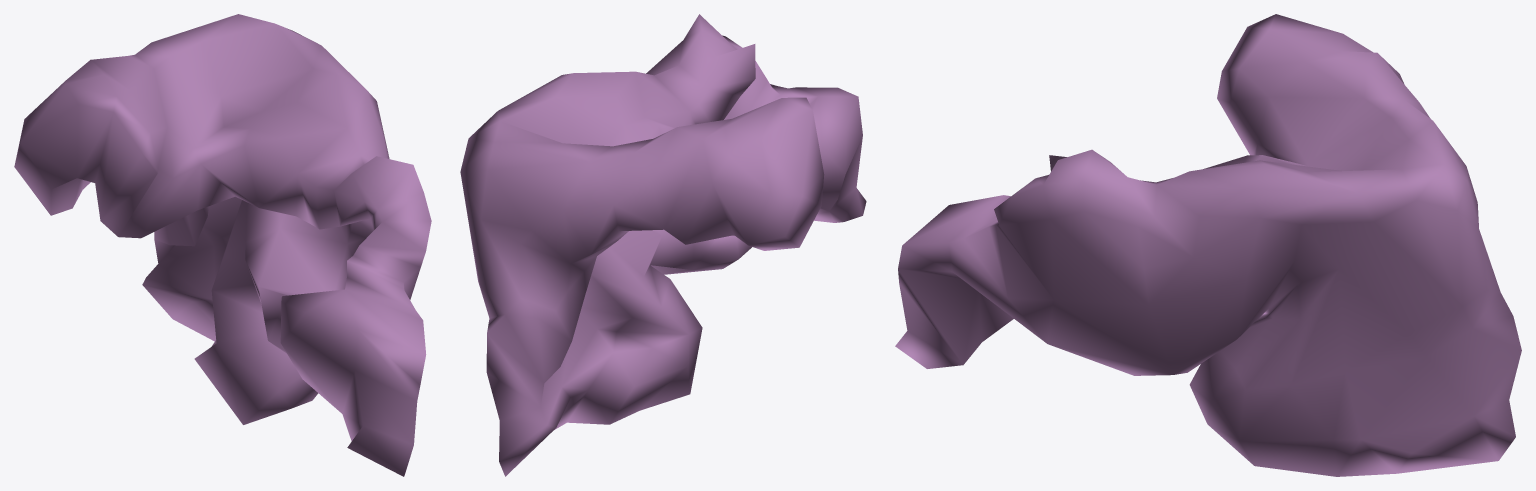
3 renders of one model, left to right at view 1: azimuth 30°, elevation 25°; view 2: azimuth 150°, elevation 25°; view 3: azimuth 270°, elevation 25°, orthographic. The views are drawn at different scales.
Visible parts, largest first — view 1: 左侧额下回三角部; view 2: 左侧额下回三角部; view 3: 左侧额下回三角部.
Boxes of the visible parts, x1=… form: 左侧额下回三角部: x1=14, y1=14, x2=431, y2=476; 左侧额下回三角部: x1=460, y1=14, x2=866, y2=476; 左侧额下回三角部: x1=895, y1=14, x2=1521, y2=476.
Size of the model in its own units: 0.0302 by 0.0331 by 0.0521.
